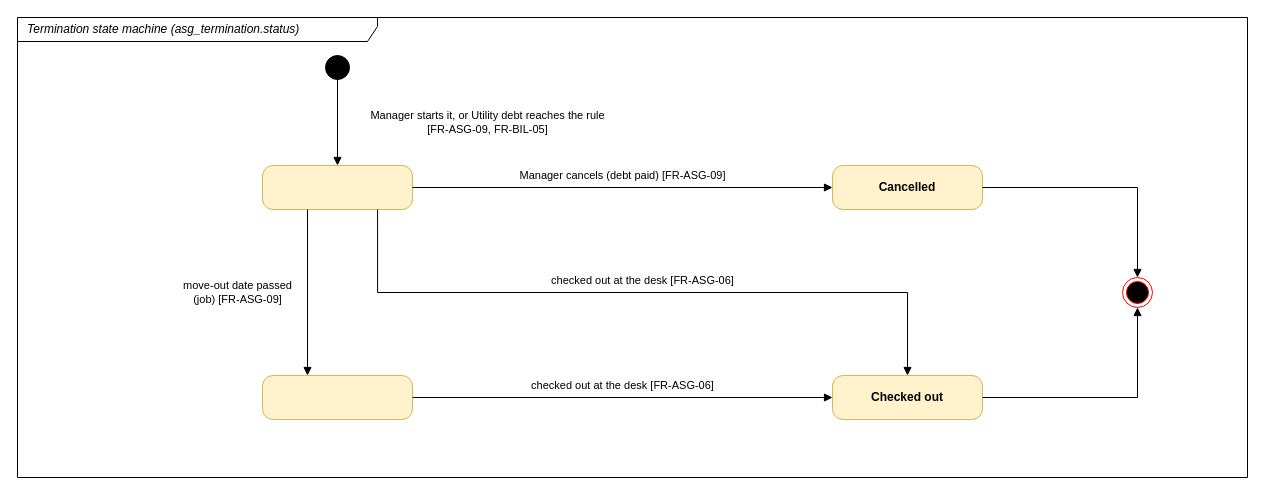
Some shapes in this 1265 by 495 pixel diagram are drawn without their labels. The centre of each missing label's shape, as x and y in pixels:
Notice sent: point (337, 187)
Overdue: point (337, 397)
